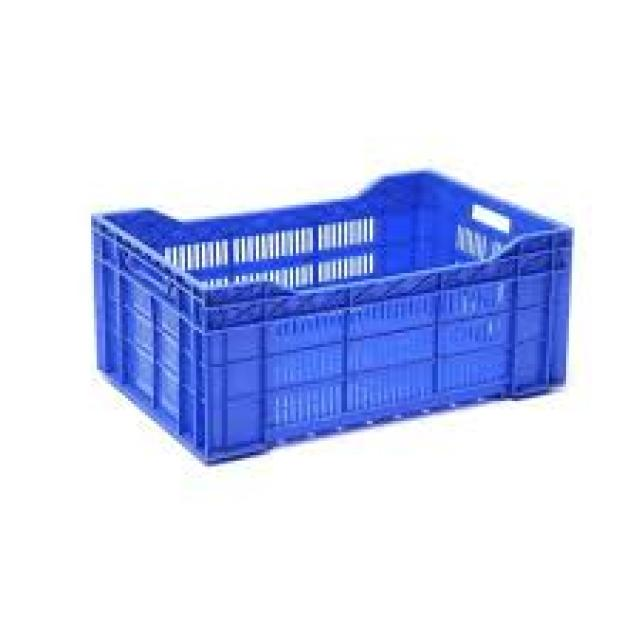basket: (67, 114, 607, 483)
